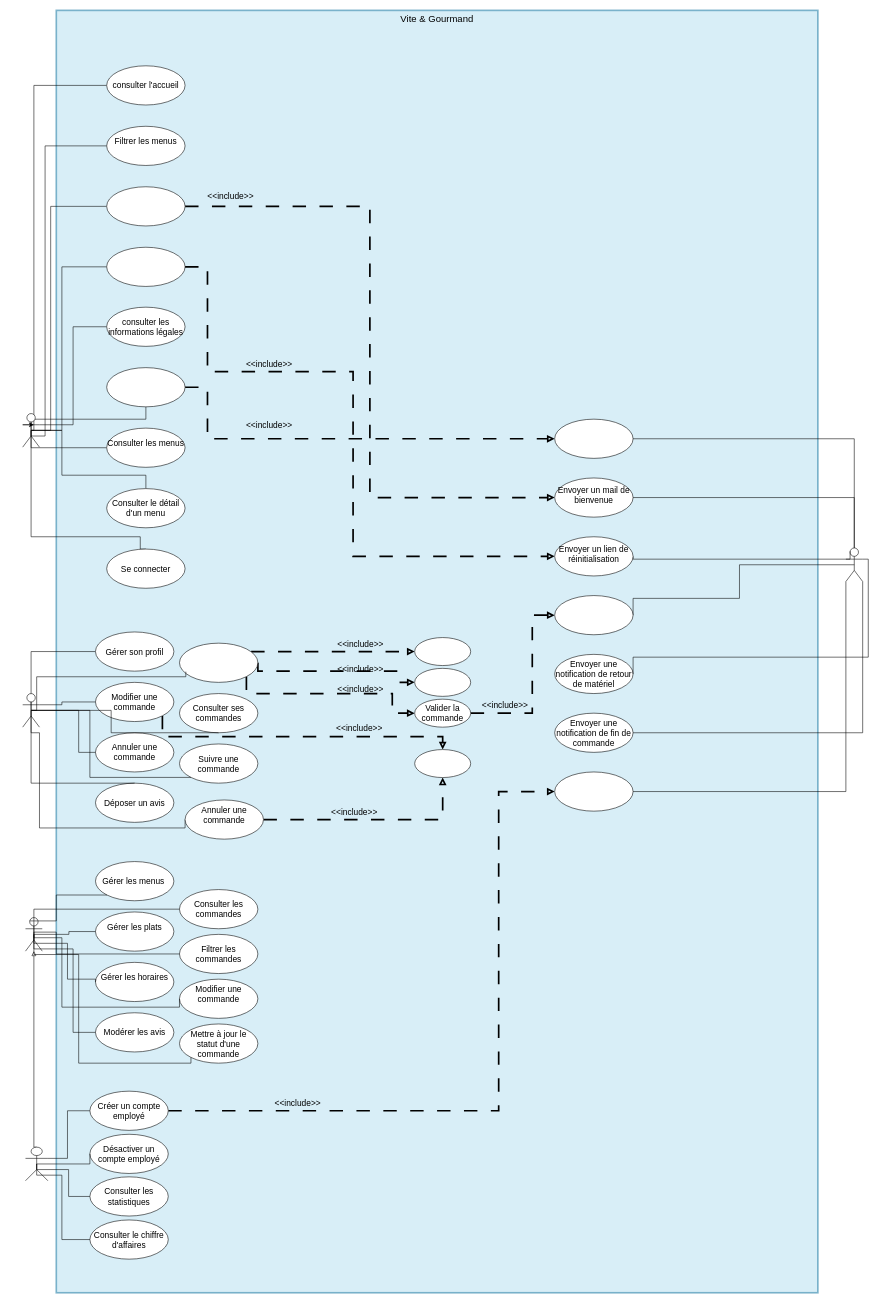
Some shapes in this 892 by 1303 pixel diagram are drawn without their labels. The centre of each missing label's shape, as x and y in pixels:
Administrateur: [36,1164]
Calculer le prix: [442,682]
Commander un menu: [218,662]
contacter l'entreprise: [145,387]
Créer un compte: [145,206]
Employé: [33,934]
Envoyer le message de contact à l'entreprise: [593,438]
Envoyer une confirmation de commande: [593,615]
Notifier la création d'un compte employé: [593,791]
Renseigner la prestation: [442,651]
Réinitialiser son mot de passe: [145,266]
Service emails: [854,564]
Tracer le contact client: [442,763]
Utilisateur: [30,710]
Visiteur: [30,430]
